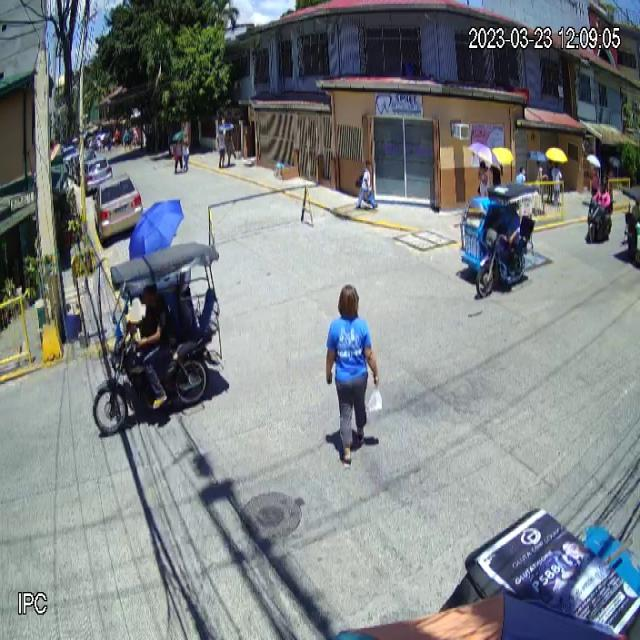Car: (94, 174, 144, 240)
Tricycle: (92, 241, 223, 434), (461, 182, 540, 299)
